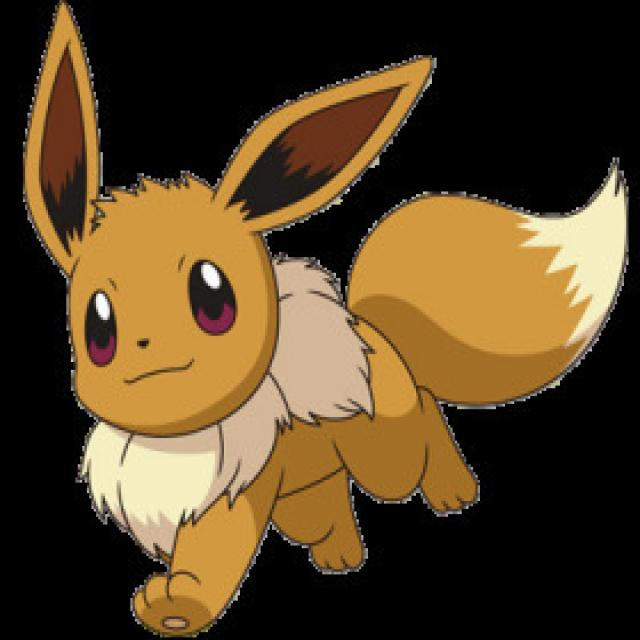Eevee: (65, 50, 481, 572)
